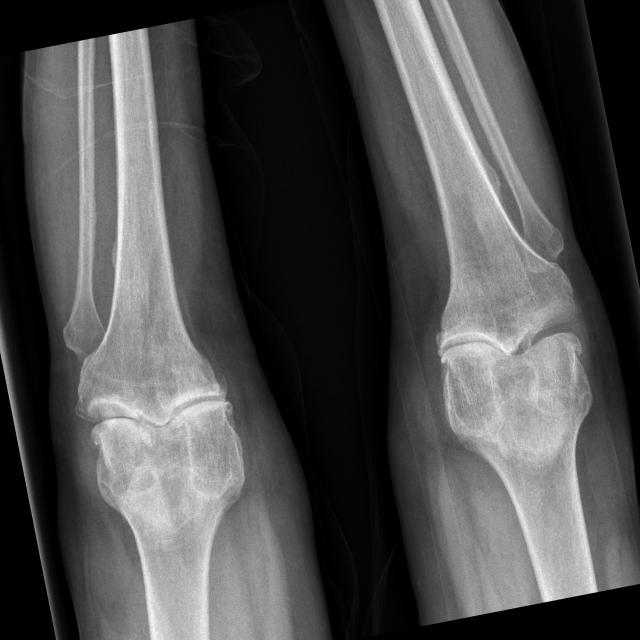Knee: (68, 329, 252, 521), (421, 270, 598, 450)
